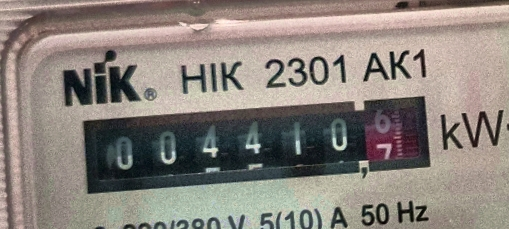0: (111, 132, 135, 172), (327, 115, 349, 153), (156, 127, 177, 166)
1: (287, 119, 304, 157)
4: (196, 120, 221, 160), (239, 118, 264, 158)
6: (373, 107, 392, 134)
7: (373, 140, 393, 161)
screen: (69, 79, 443, 207)
